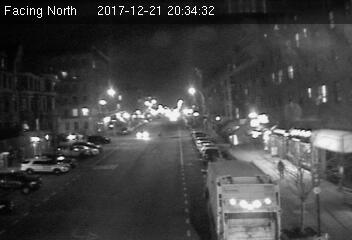car: (135, 129, 150, 137)
truck: (202, 159, 281, 240)
